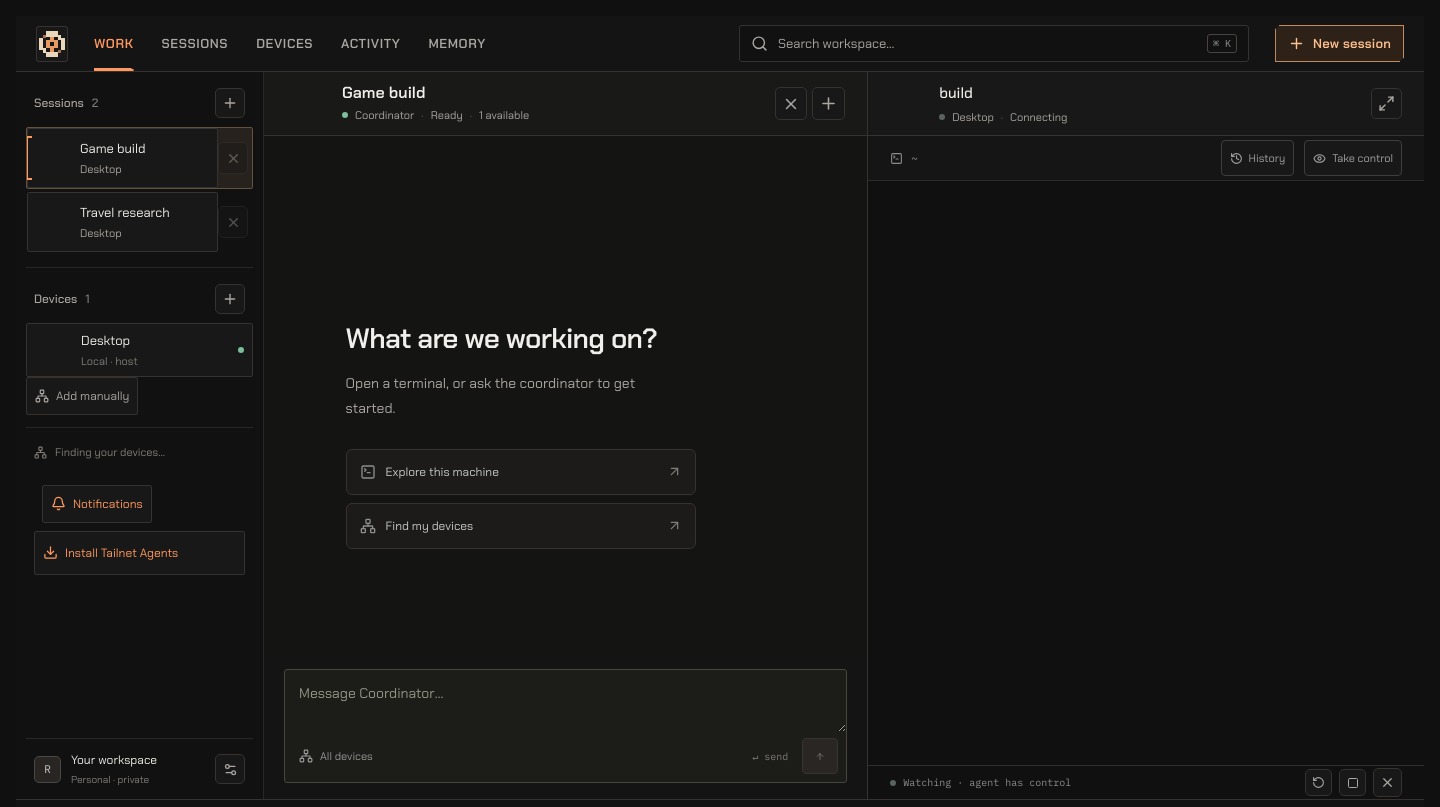
Test: binds the work pane to the selected conversation without a terminal picker
This screenshot has width=1440, height=807.
expect the element with class "chat-list" shows "Game build": met, box [27,128,218,188]
expect the text "build" is shown: met, box [939,83,973,103]
Step 1. Click the button titled "Travel research" → (122, 222), box [27,192,218,252]
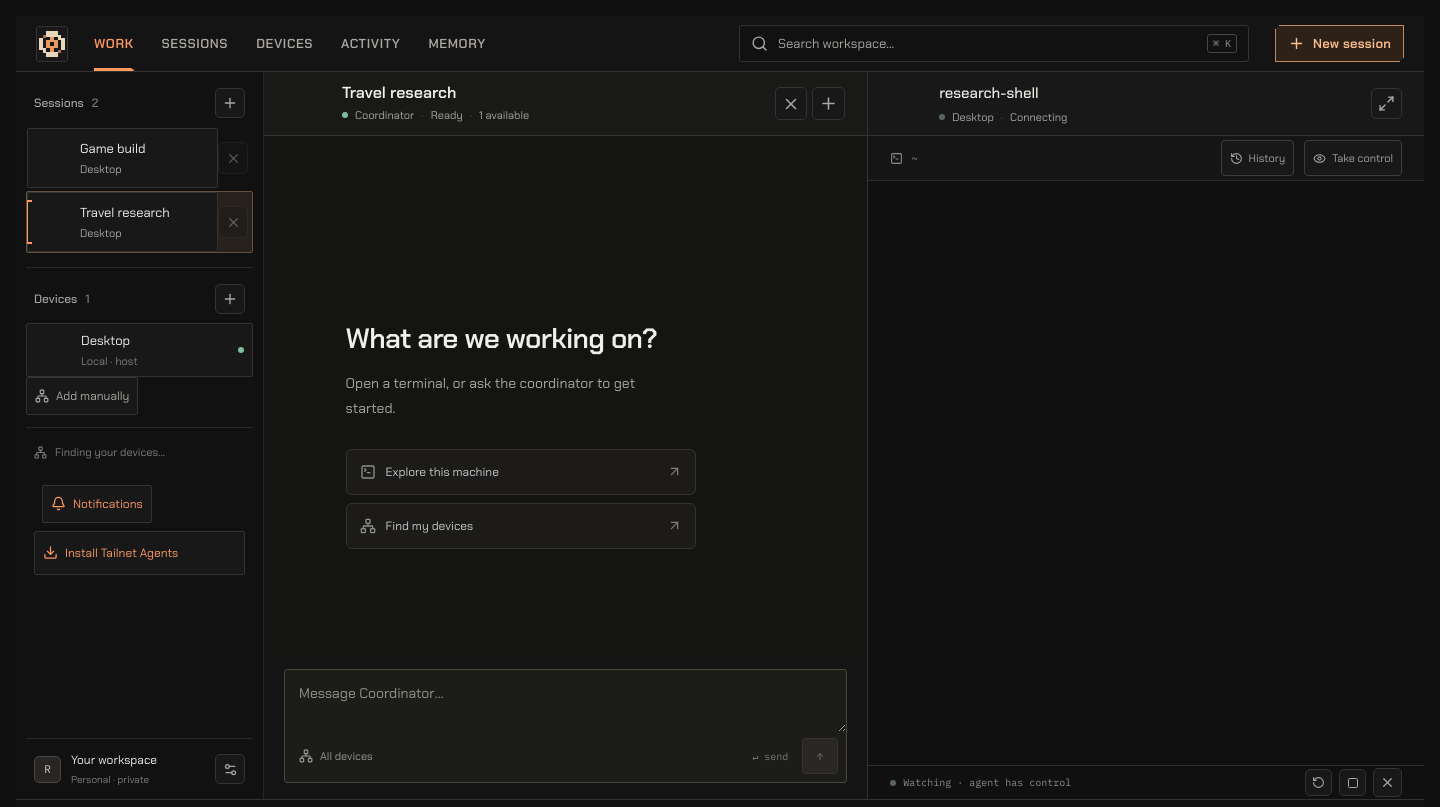
expect the text "research-shell" is shown: met, box [939,83,1039,103]
expect the heading "Travel research" is shown: met, box [342,82,456,103]
Step 2. Click the button titled "Game build" → (122, 158), box [27,128,218,188]
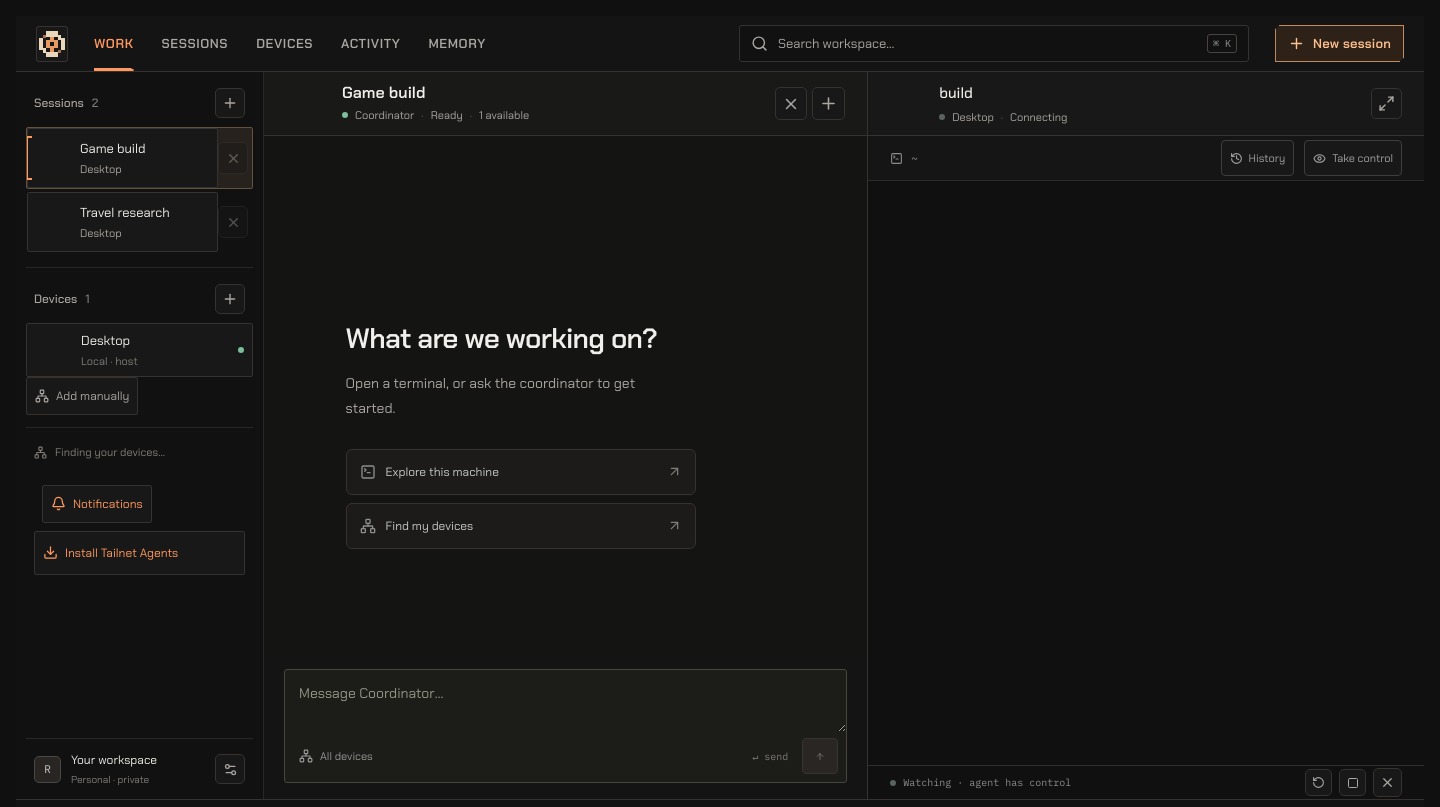
expect the text "build" is shown: met, box [939,83,973,103]
